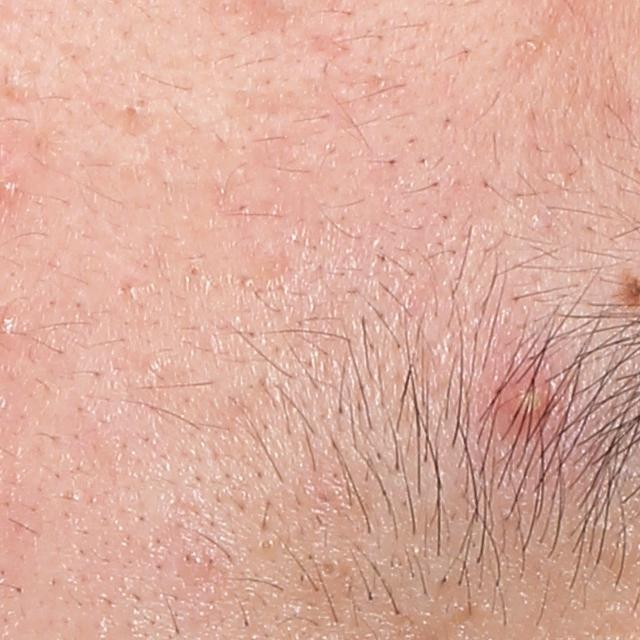comedo: (316, 554, 344, 583), (255, 535, 278, 551), (122, 101, 141, 120), (188, 263, 201, 278)
